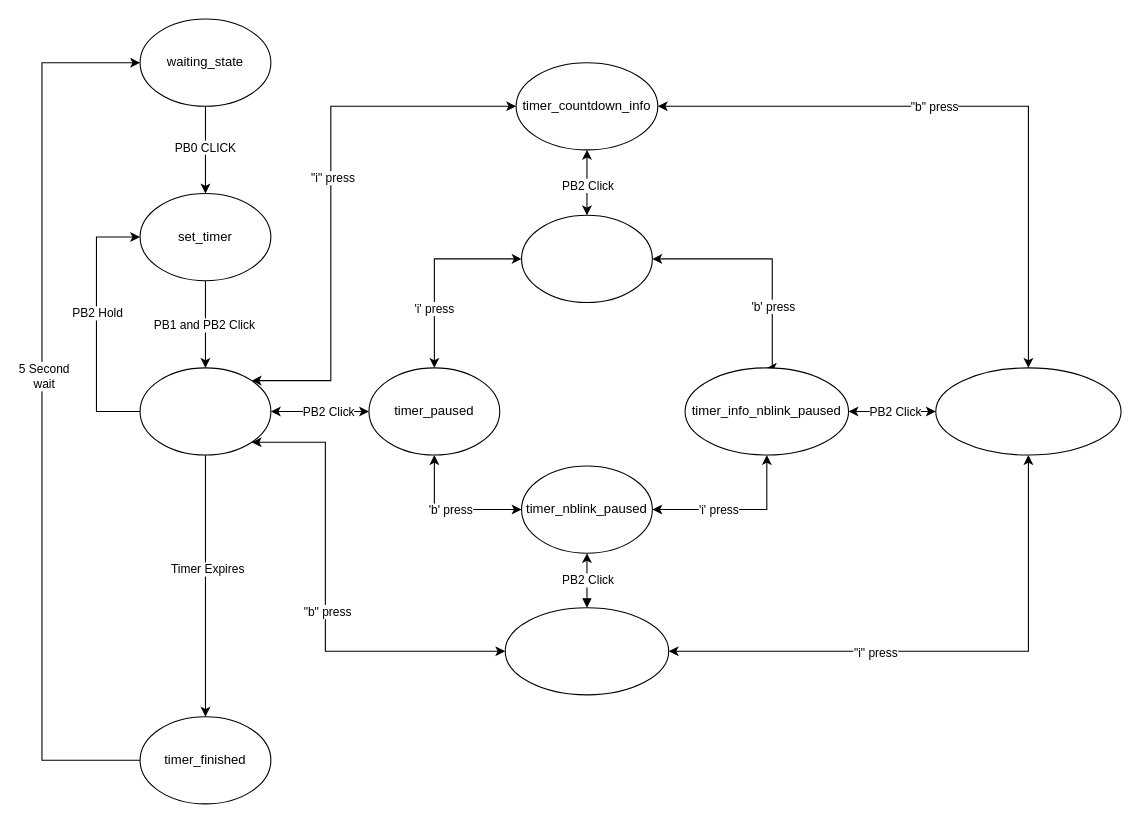
Some shapes in this 1140 by 823 pixel diagram are drawn without their labels. The shapes that lost their labels are listed below. From the top down, each one's box as (x1, y1, x2, y2) in pixels, then its label:
(520, 214, 652, 302): timer_info_paused
(139, 367, 271, 455): timer_countdown
(935, 367, 1121, 455): timer_countdown_info_nblink
(504, 607, 669, 695): timer_countdown_nblink
